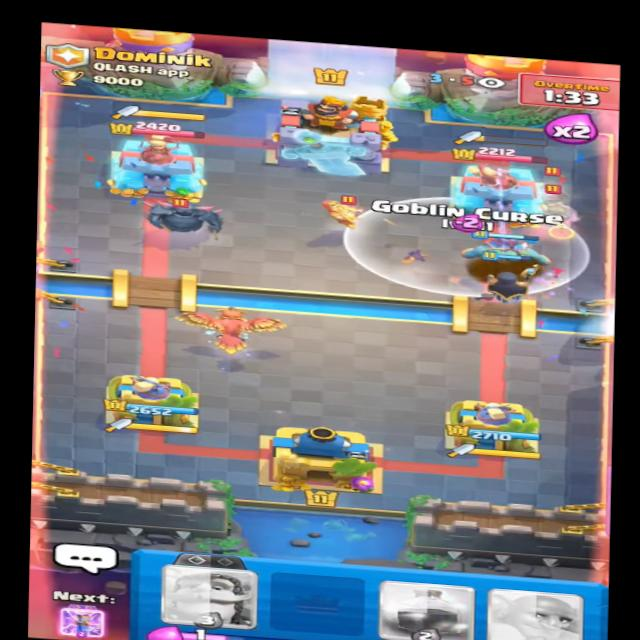pekka: (135, 186, 224, 242)
royal-ghost: (528, 192, 589, 238)
wizard: (318, 192, 368, 231)
